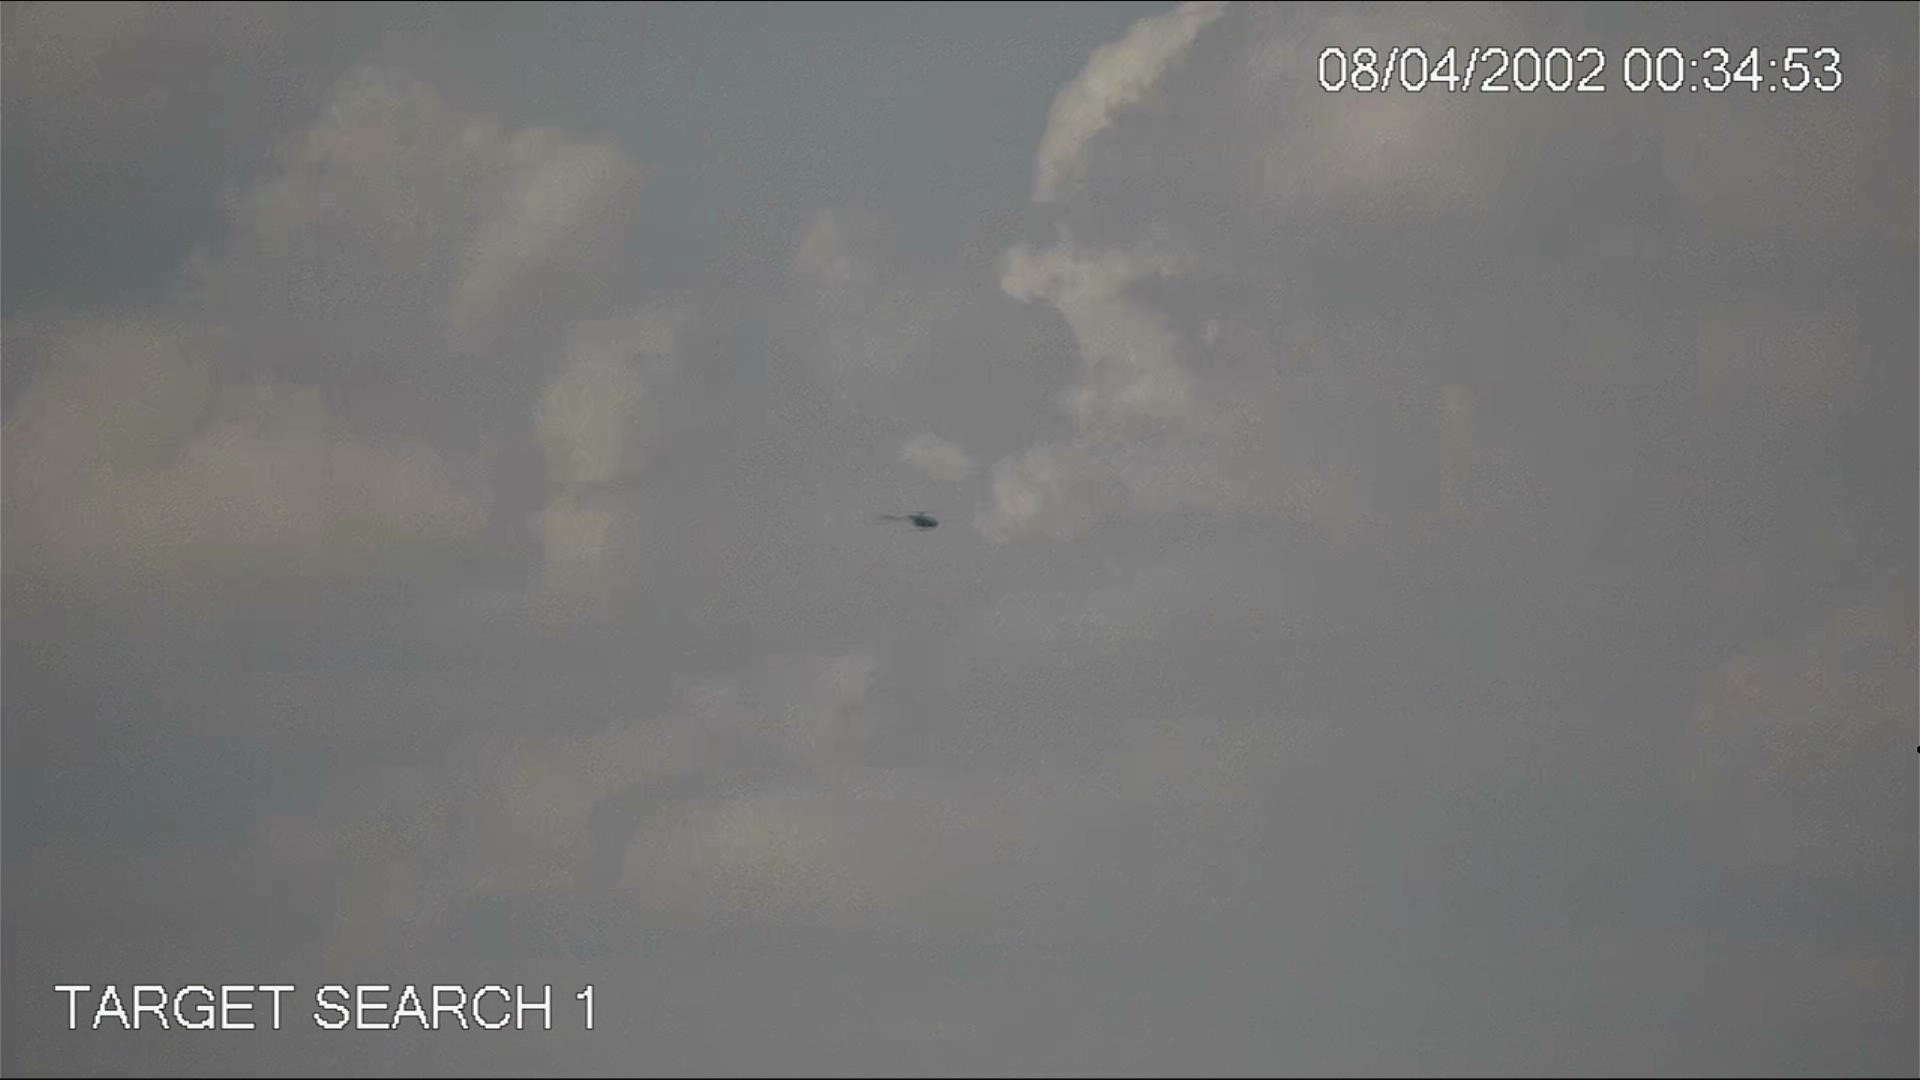SU_30: (881, 506, 952, 538)
